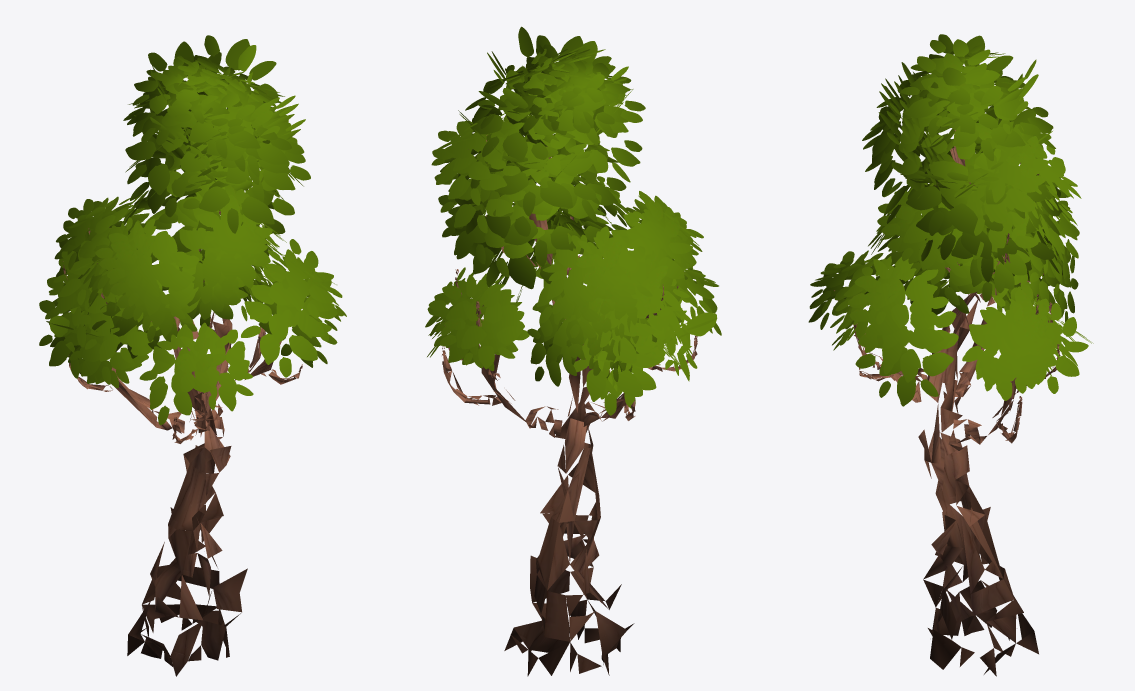
The model's file is beringin-1.glb.
The picture shows the model from 3 angles, left to right: view 1: azimuth 30°, elevation 25°; view 2: azimuth 150°, elevation 25°; view 3: azimuth 270°, elevation 25°; orthographic projection. The views are drawn at different scales.
Parts seen in each view (by area): view 1: CommonTree_2; view 2: CommonTree_2; view 3: CommonTree_2.
Boxes of the visible parts, x1,y1,x2,y2 form: CommonTree_2: [39, 35, 346, 676]; CommonTree_2: [425, 26, 721, 676]; CommonTree_2: [808, 34, 1093, 676].
Size of the model in its own units: 7.9 by 16.08 by 8.02.
2 materials, 2 textured.
